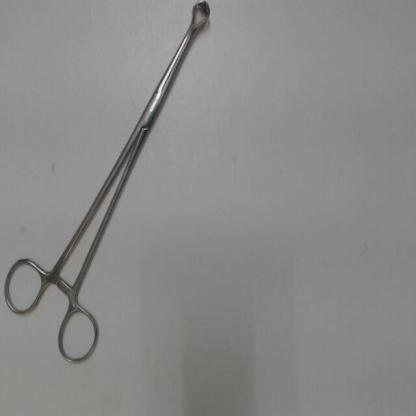8 Babcock Tissue Forceps: (1, 0, 216, 370)
